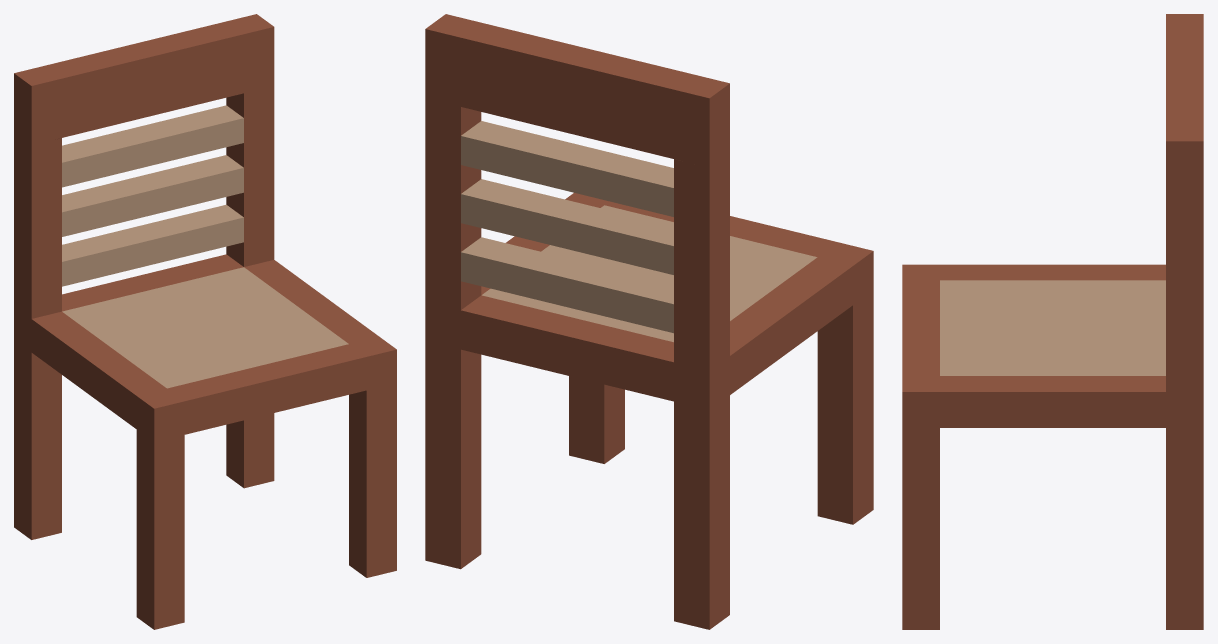
The model's file is chair.fbx.
3 views of the same model, side by side, from view 1: azimuth 30°, elevation 25°; view 2: azimuth 150°, elevation 25°; view 3: azimuth 270°, elevation 25° (orthographic). The views are drawn at different scales.
Visible parts, largest first — view 1: Cube; view 2: Cube; view 3: Cube.
Part boxes in pixels (x1,y1,x2,y2): Cube: (14, 14, 396, 629); Cube: (425, 14, 873, 629); Cube: (902, 14, 1203, 629).
Size of the model in its own units: 200 by 357 by 200.
